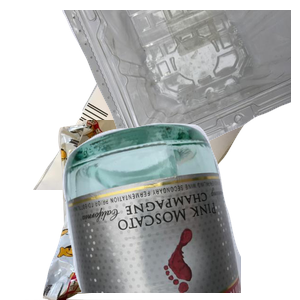glass: (60, 120, 300, 300)
paper: (31, 35, 271, 215)
plastic: (60, 10, 300, 162)
trash: (25, 120, 198, 300)
